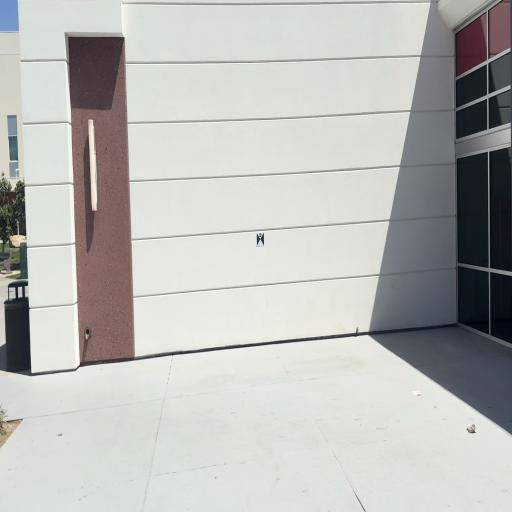target0: (257, 231, 264, 247)
